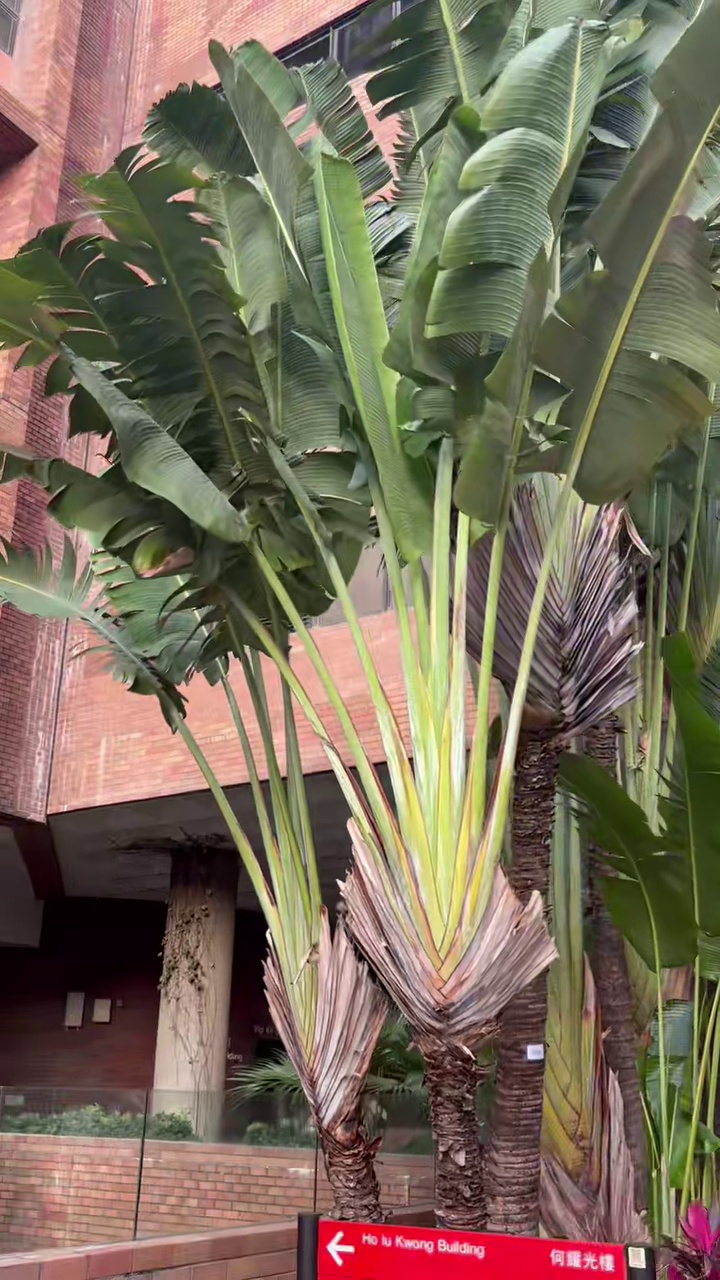Travellers-tree: (0, 41, 555, 1225)
